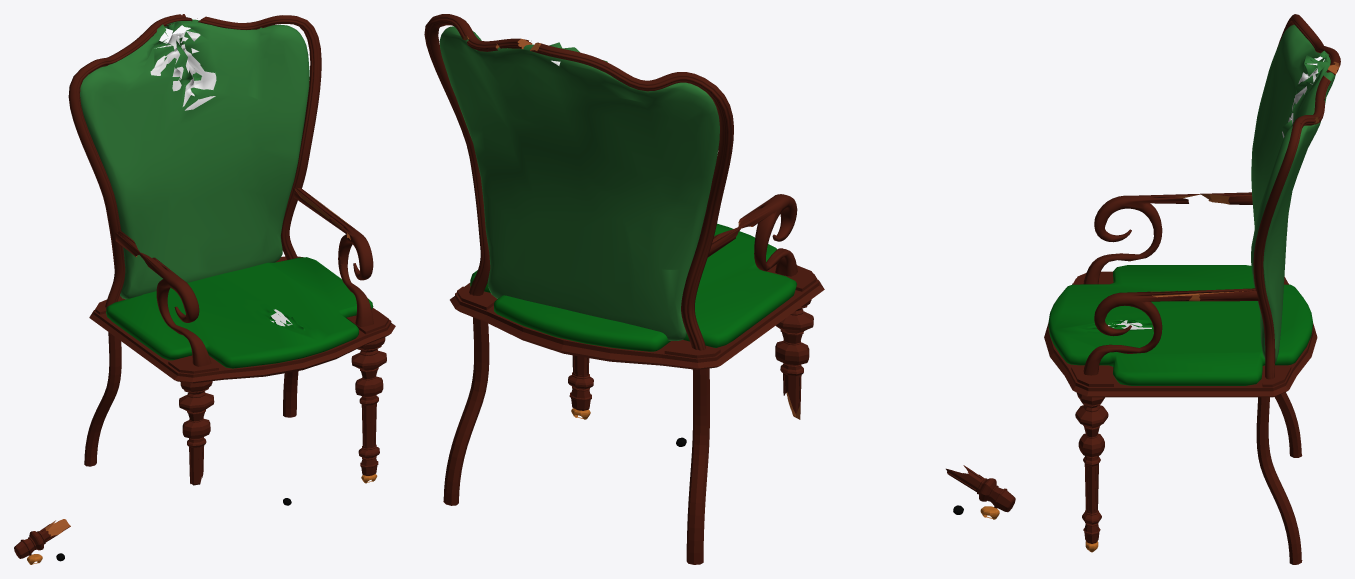
Rendered from chair_broken.glb.
The picture shows the model from 3 angles, left to right: view 1: azimuth 30°, elevation 25°; view 2: azimuth 150°, elevation 25°; view 3: azimuth 270°, elevation 25°; orthographic projection. The views are drawn at different scales.
Parts seen in each view (by area): view 1: BézierCurve - backing_cushion._LP, chair_base_cushion._LP, BézierCurve - backing_broken, chair_base, arm_r_front_LP_broken, leg_l_front, arm_l_front_LP_broken, leg_r_front_broken_top, BézierCurve - backing_cushion._LP_filling, leg_r_back, leg_r_front_broken_bottom, leg_l_back; view 2: BézierCurve - backing_cushion._LP, chair_base_cushion._LP, BézierCurve - backing_broken, chair_base, leg_r_back, arm_r_front_LP_broken, leg_l_back, leg_r_front_broken_top, leg_r_front_broken_bottom, leg_l_front; view 3: chair_base_cushion._LP, BézierCurve - backing_cushion._LP, chair_base, BézierCurve - backing_broken, arm_l_front_LP_broken, arm_r_front_LP_broken, leg_l_front, leg_l_back, leg_r_back.
Boxes of the visible parts, box(x1,y1,x2,y2) form: BézierCurve - backing_cushion._LP: box(80, 19, 309, 299); chair_base_cushion._LP: box(106, 257, 373, 368); BézierCurve - backing_broken: box(68, 14, 321, 307); chair_base: box(89, 256, 395, 383); arm_r_front_LP_broken: box(115, 231, 211, 366); leg_l_front: box(351, 337, 386, 475); arm_l_front_LP_broken: box(293, 187, 373, 326); leg_r_front_broken_top: box(179, 381, 214, 485); BézierCurve - backing_cushion._LP_filling: box(150, 32, 216, 110); leg_r_back: box(84, 332, 121, 466); leg_r_front_broken_bottom: box(14, 519, 70, 558); leg_l_back: box(283, 371, 298, 417); BézierCurve - backing_cushion._LP: box(439, 26, 719, 340); chair_base_cushion._LP: box(470, 223, 796, 351); BézierCurve - backing_broken: box(424, 14, 733, 350); chair_base: box(450, 264, 824, 369); leg_r_back: box(686, 368, 709, 564); arm_r_front_LP_broken: box(708, 194, 797, 276); leg_l_back: box(443, 317, 489, 505); leg_r_front_broken_top: box(775, 299, 813, 419); leg_r_front_broken_bottom: box(946, 465, 1015, 512); leg_l_front: box(568, 355, 593, 410); chair_base_cushion._LP: box(1048, 265, 1312, 385); BézierCurve - backing_cushion._LP: box(1251, 24, 1335, 362); chair_base: box(1044, 271, 1317, 397); BézierCurve - backing_broken: box(1253, 14, 1340, 379); arm_l_front_LP_broken: box(1083, 288, 1258, 375); arm_r_front_LP_broken: box(1083, 192, 1252, 284); leg_l_front: box(1075, 393, 1108, 543); leg_l_back: box(1256, 397, 1302, 564); leg_r_back: box(1274, 392, 1302, 457).
Size of the model in its own units: 1.17 by 1.17 by 0.699.
